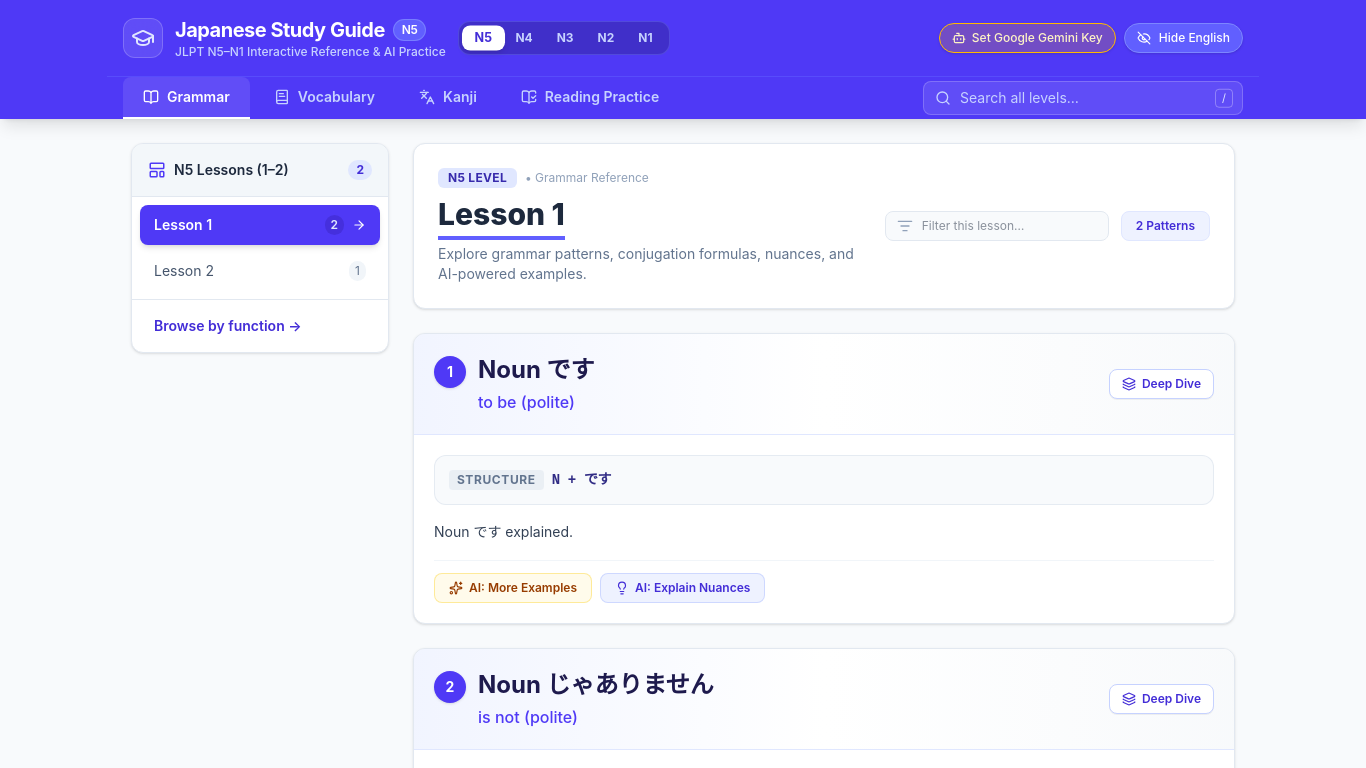
Test case: Grammar section shell › filters the lesson by the search box and shows "x of y"
The width and height of the screenshot is (1366, 768).
Expected: the text "Noun です" is shown, top-left (478, 355), bottom-right (595, 384)
Expected: the text "2 Patterns" is shown, top-left (1121, 211), bottom-right (1210, 241)
Type "not" into the field labelled "Filter this lesson…" at (997, 226), box top-left (885, 211), bottom-right (1109, 241)
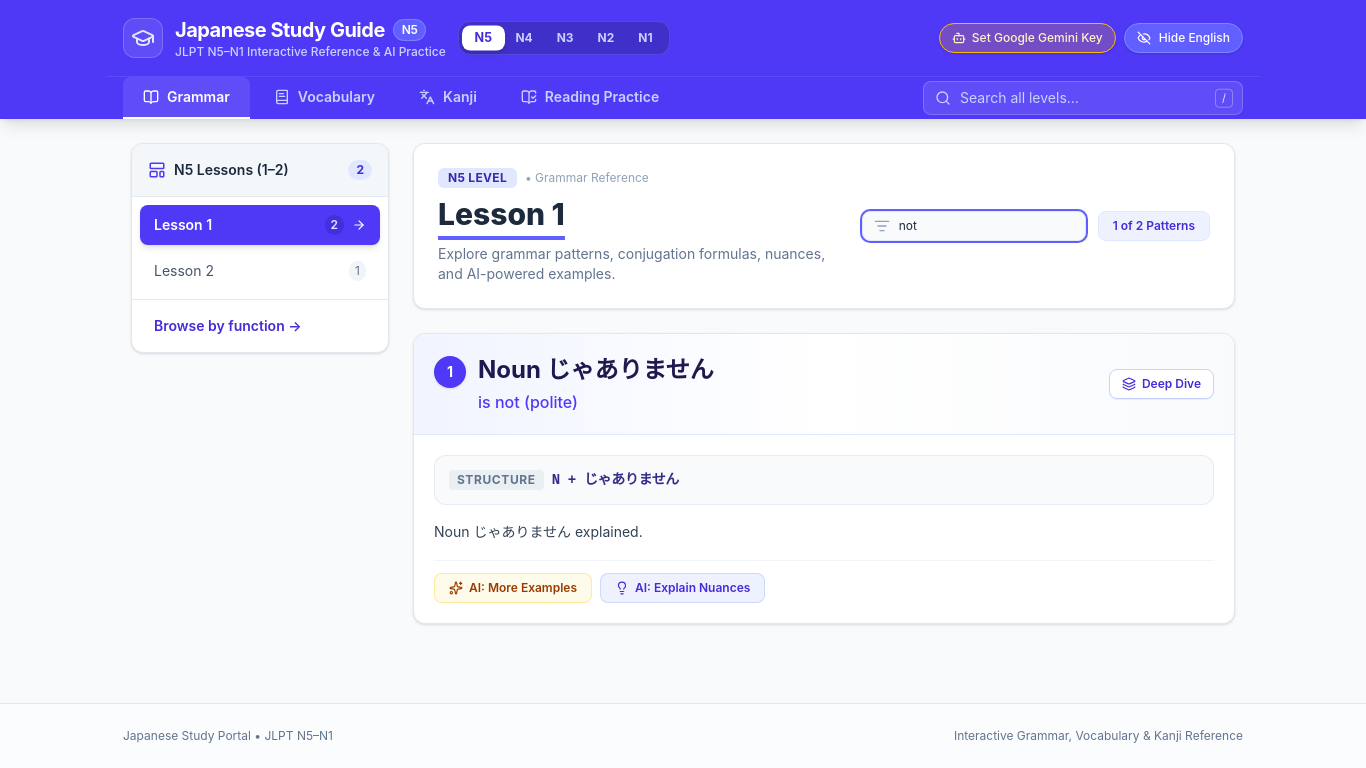
Expected: the text "Noun じゃありません" is shown, top-left (478, 355), bottom-right (714, 384)
Now the text "Noun です" is gone
Now the text "1 of 2 Patterns" is shown, box top-left (1098, 211), bottom-right (1210, 241)
